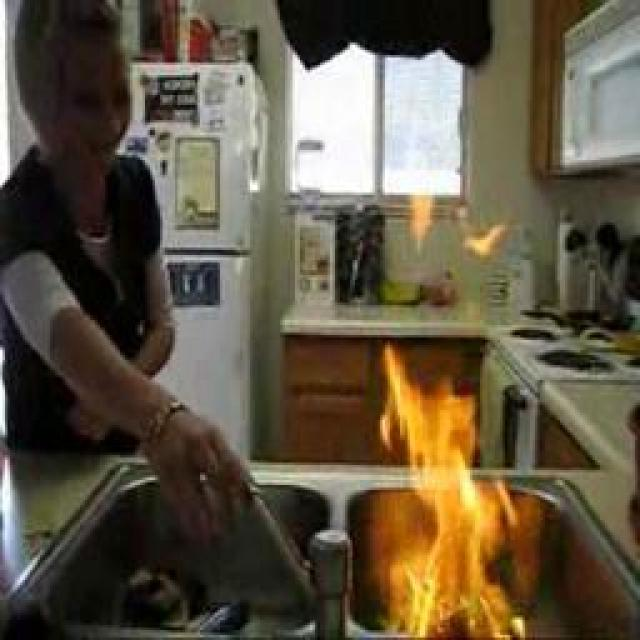Fire: (368, 341, 520, 640), (393, 185, 512, 268)
